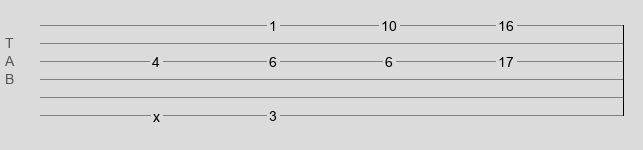1: (269, 18, 277, 28)
10: (381, 18, 397, 28)
16: (498, 18, 514, 28)
17: (498, 54, 514, 64)
3: (269, 108, 277, 118)
4: (152, 54, 160, 64)
6: (269, 54, 277, 64), (385, 54, 393, 64)
x: (153, 109, 160, 117)
